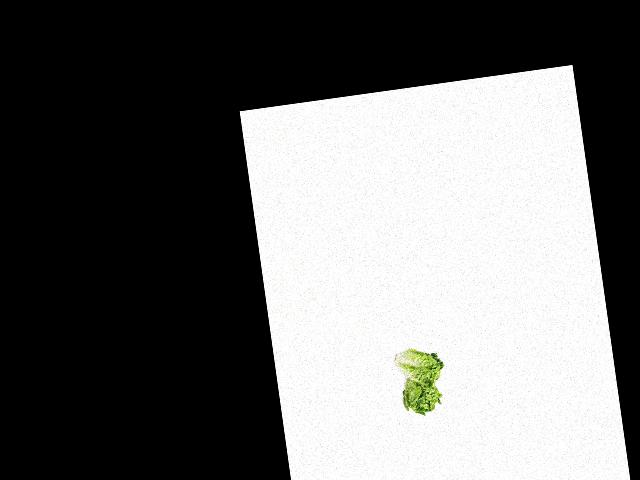lettuce: (394, 370, 445, 418)
